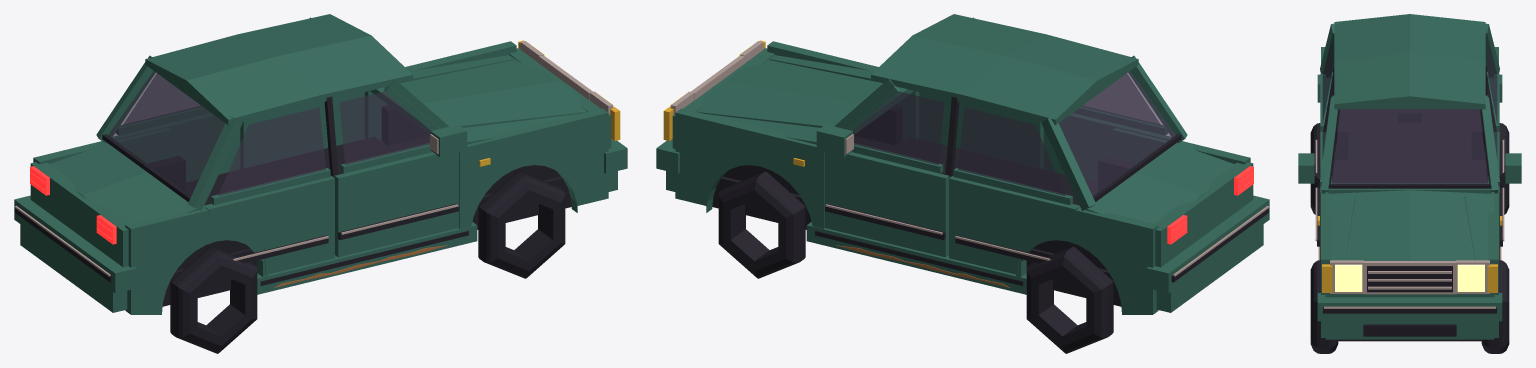
The model's file is veh.sedan-green.lod2.glb.
3 views of the same model, side by side, from view 1: azimuth 30°, elevation 25°; view 2: azimuth 150°, elevation 25°; view 3: azimuth 270°, elevation 25° (orthographic). The views are drawn at different scales.
Visible parts, largest first — view 1: body, object 8, wheelFR, wheelRR, lightsBrake; view 2: body, object 8, wheelFL, wheelRL, lightsBrake; view 3: body, object 8, lightsFront, wheelFL, wheelFR, wheelRL, wheelRR.
Part boxes in pixels (bbox=[...]): body: bbox=[14, 14, 627, 314]; object 8: bbox=[112, 74, 467, 274]; wheelFR: bbox=[478, 171, 565, 278]; wheelRR: bbox=[170, 246, 257, 353]; lightsBrake: bbox=[30, 166, 116, 244]; body: bbox=[656, 14, 1269, 314]; object 8: bbox=[816, 74, 1171, 274]; wheelFL: bbox=[718, 171, 805, 278]; wheelRL: bbox=[1026, 246, 1113, 353]; lightsBrake: bbox=[1167, 166, 1253, 244]; body: bbox=[1317, 14, 1502, 341]; object 8: bbox=[1298, 40, 1521, 259]; lightsFront: bbox=[1322, 264, 1497, 292]; wheelFL: bbox=[1481, 260, 1509, 353]; wheelFR: bbox=[1310, 260, 1338, 353]; wheelRL: bbox=[1484, 123, 1509, 214]; wheelRR: bbox=[1310, 123, 1335, 214].
Bounding box in the file's own units: 4.4 × 1.9 × 1.8.
